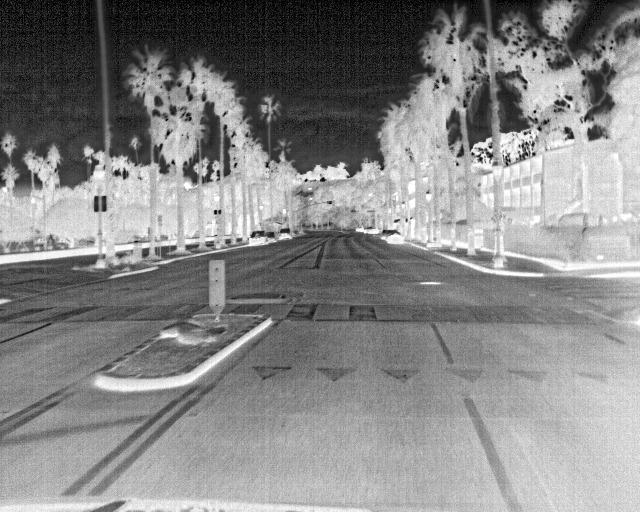car: (246, 229, 269, 247), (384, 229, 404, 245), (363, 224, 381, 236), (276, 227, 292, 240), (265, 229, 278, 244), (379, 228, 393, 240), (353, 224, 366, 233)
